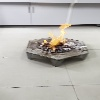fire: (40, 23, 71, 52)
